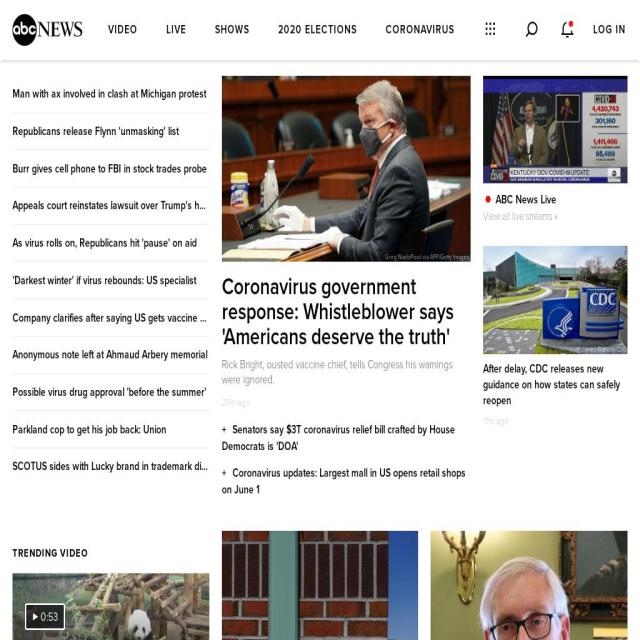button: (264, 1, 371, 61), (371, 1, 469, 61), (25, 616, 197, 640), (200, 1, 264, 61), (94, 1, 152, 61), (152, 1, 200, 61), (593, 1, 640, 61), (221, 530, 222, 532), (483, 246, 483, 247), (431, 530, 431, 532)
heading: (221, 274, 454, 352), (482, 362, 620, 408), (12, 199, 240, 214), (13, 460, 223, 475), (12, 348, 208, 364), (12, 311, 210, 326), (12, 236, 197, 252), (12, 385, 206, 400), (12, 162, 207, 176), (12, 88, 206, 102), (12, 274, 196, 288), (12, 125, 178, 140), (12, 422, 166, 438), (12, 549, 210, 561), (495, 194, 556, 208)
image: (221, 77, 471, 264), (221, 531, 418, 640), (430, 531, 627, 640), (482, 76, 628, 192), (482, 247, 628, 356), (12, 574, 210, 640)
link: (221, 467, 466, 498), (221, 423, 455, 455), (482, 211, 558, 225)
text: (482, 76, 628, 184), (12, 573, 210, 640), (221, 358, 471, 389), (221, 395, 471, 413), (469, 1, 513, 61), (482, 412, 628, 430), (383, 254, 471, 264), (580, 345, 628, 355), (40, 611, 60, 626)
